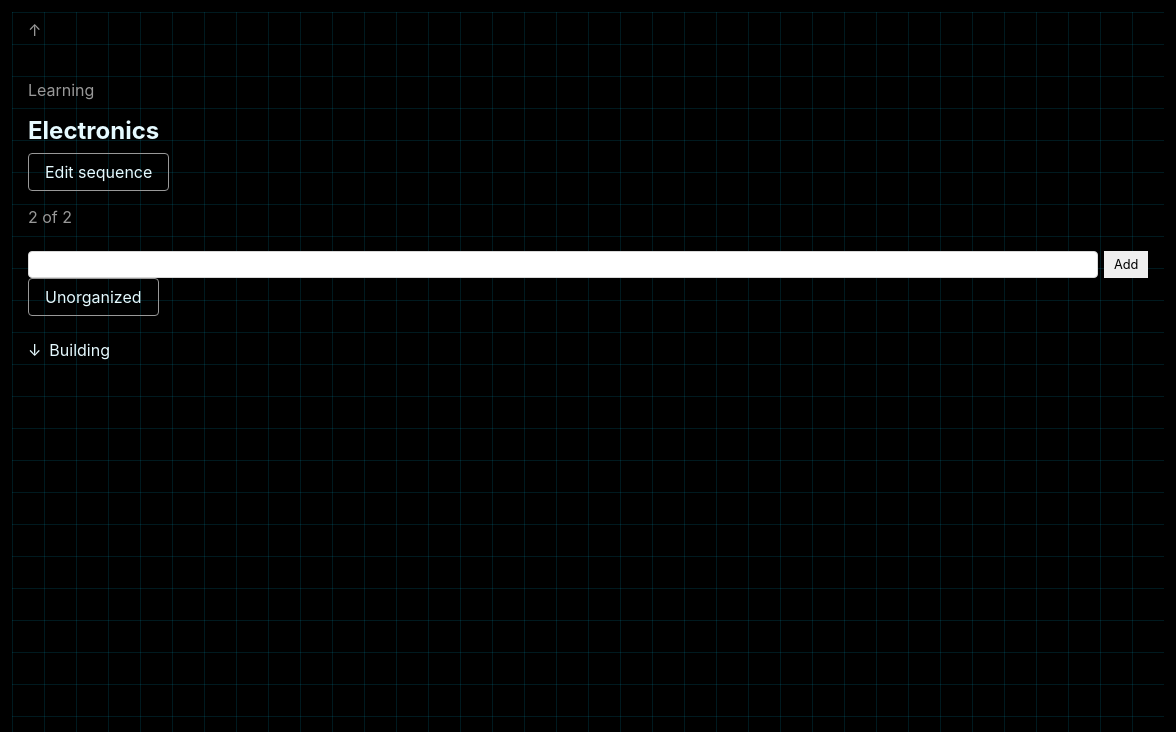
Test: PhoneProjectView › swiping right steps back
Press the mouse on the element that starts with "Learning" at (588, 190), box [12,12,1164,368]
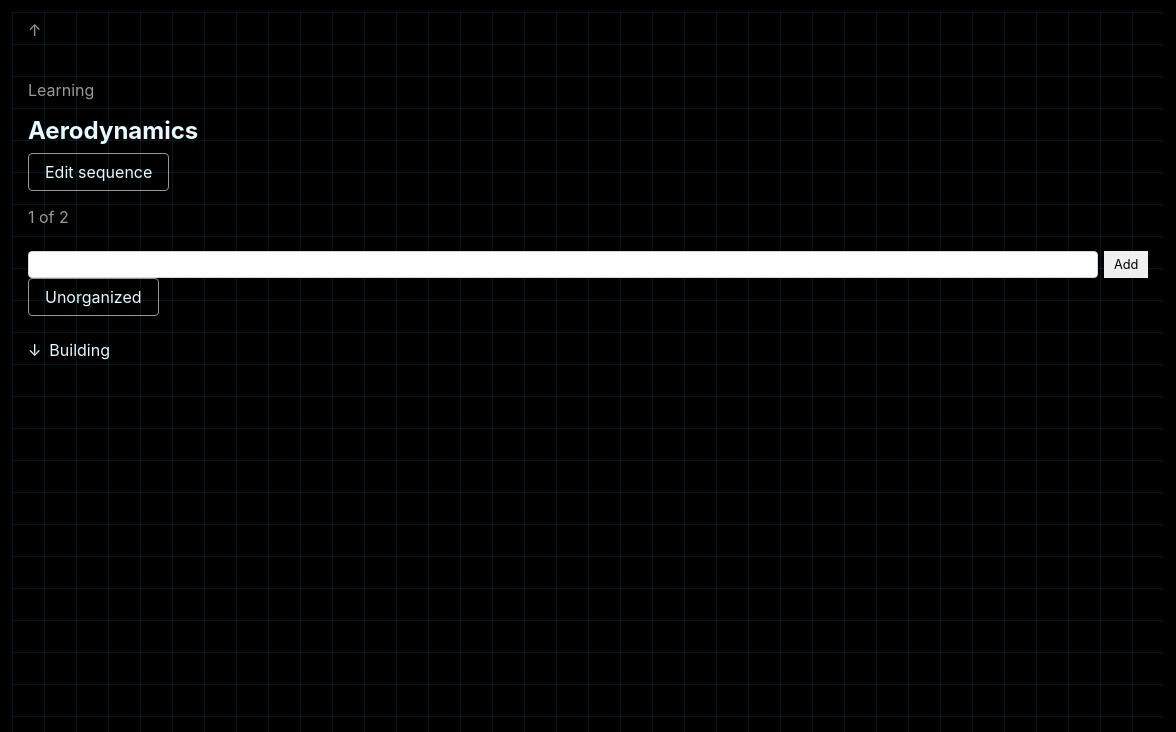
Now the heading "Aerodynamics" is shown, box [28,116,198,145]
